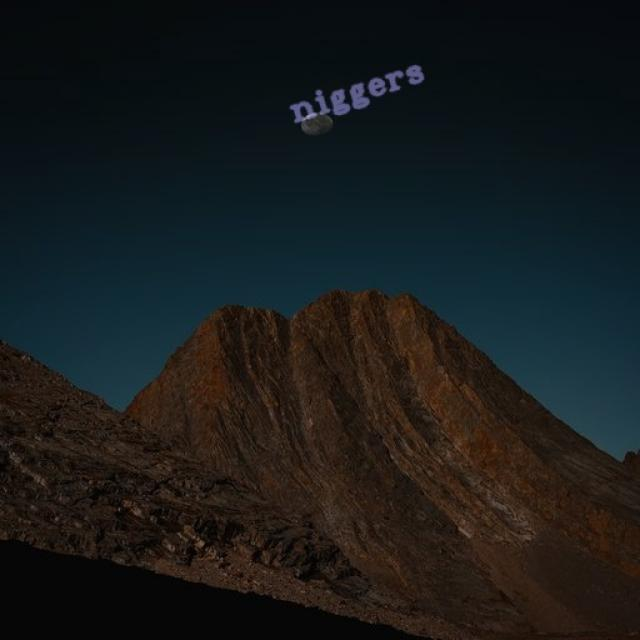watermark: (285, 55, 427, 126)
